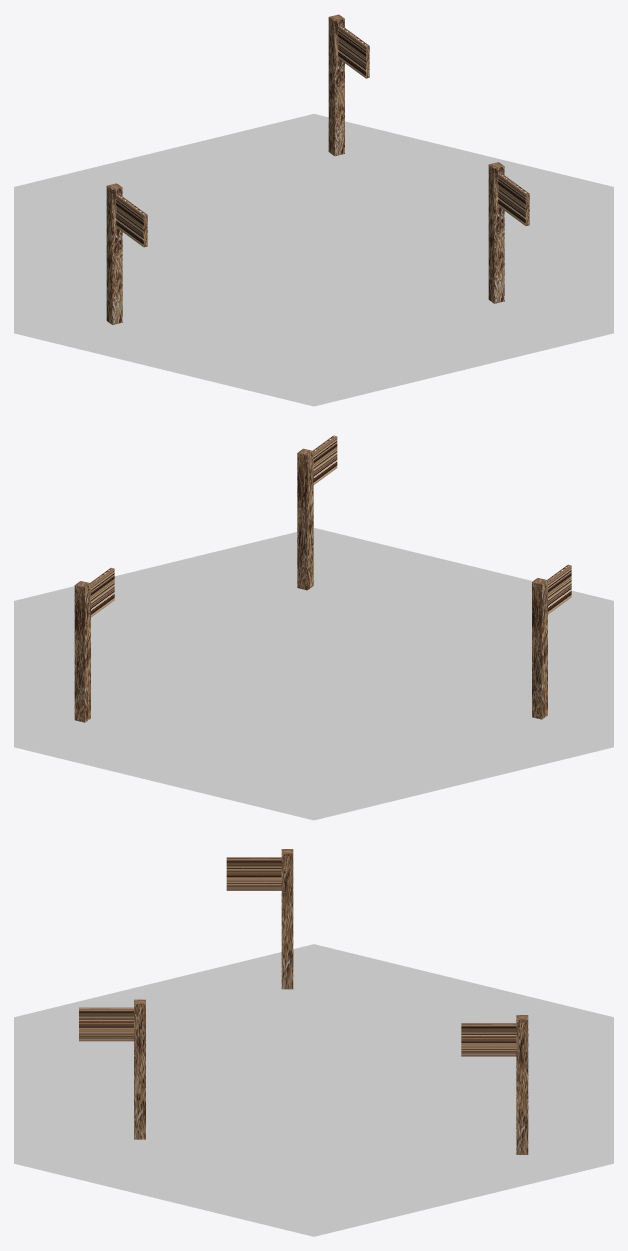
File: ruraldistrict.glb
3 views of the same model, one above another, from view 1: azimuth 30°, elevation 25°; view 2: azimuth 150°, elevation 25°; view 3: azimuth 270°, elevation 25° (orthographic).
Visible parts, largest first — view 1: Hex, Building.001; view 2: Hex, Building.001; view 3: Hex, Building.001.
Boxes of the visible parts, box(x1,y1,x2,y2) form: Hex: box(14, 114, 613, 406); Building.001: box(106, 14, 529, 324); Hex: box(14, 528, 613, 820); Building.001: box(74, 435, 571, 722); Hex: box(14, 944, 613, 1236); Building.001: box(79, 849, 528, 1154).
Bounding box in the file's own units: 13.33 × 3.36 × 11.55.
3 materials, 3 textured.
